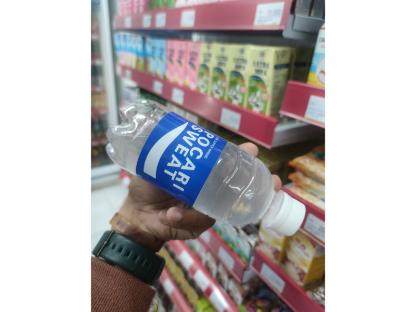Plastic Bottle: (106, 99, 306, 237)
